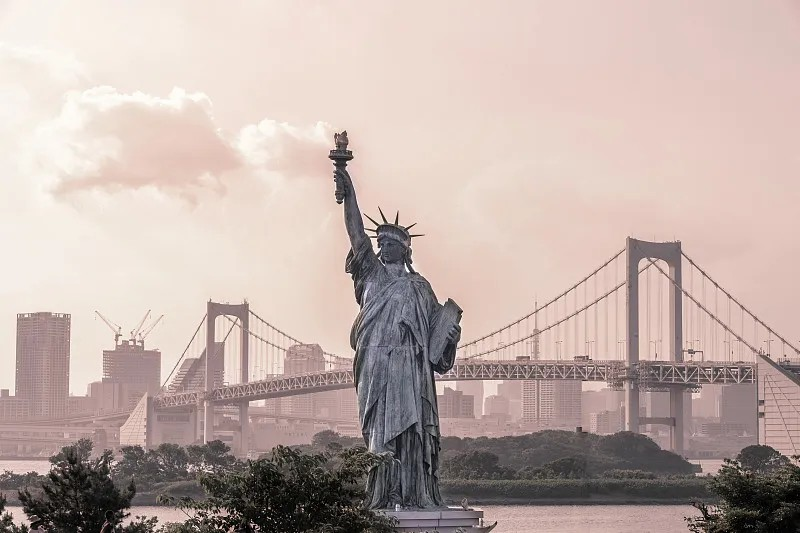SL: (326, 129, 483, 533)
